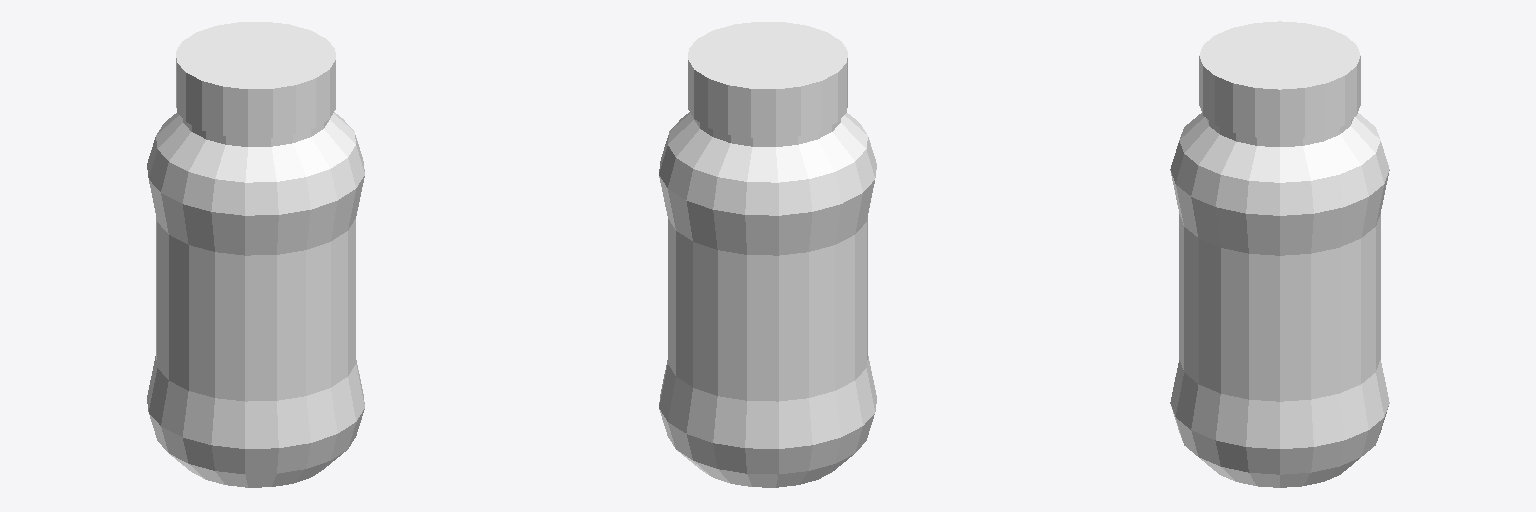
Rendered from bottle 1.obj.
3 views of the same model, side by side, from view 1: azimuth 30°, elevation 25°; view 2: azimuth 150°, elevation 25°; view 3: azimuth 270°, elevation 25° (orthographic).
Parts seen in each view (by area): view 1: Bubblebottle_initialShadingGroup; view 2: Bubblebottle_initialShadingGroup; view 3: Bubblebottle_initialShadingGroup.
Part boxes in pixels (left/top/right/bottom): Bubblebottle_initialShadingGroup: left=147, top=22, right=364, bottom=487; Bubblebottle_initialShadingGroup: left=659, top=22, right=876, bottom=487; Bubblebottle_initialShadingGroup: left=1170, top=21, right=1389, bottom=487.
Size of the model in its own units: 2.18 by 4.39 by 2.18.